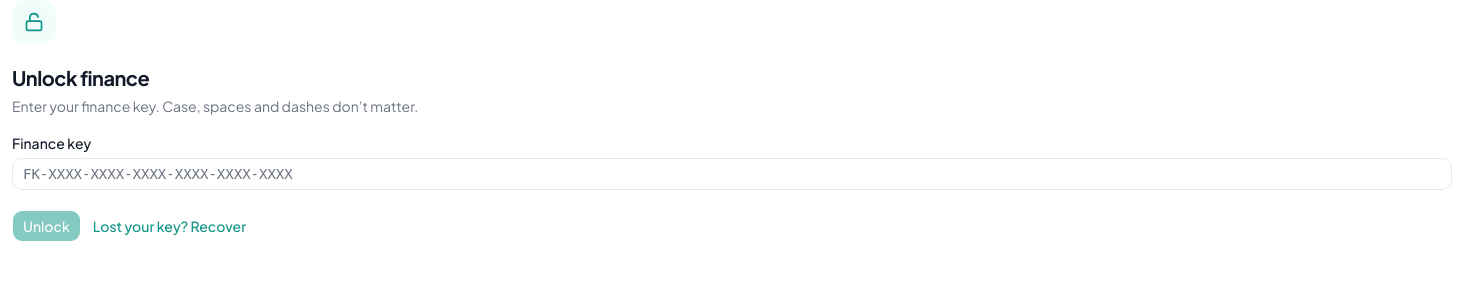
it: finance keys never persist in the browser › unlock: a wrong key shows the message and the field is still cleared
Type "FK-ABCD-EFGH-JKMN-PQRS-TVWX-YZ12" into the field labelled "Finance key" at (732, 174), box top-left (12, 158), bottom-right (1452, 190)
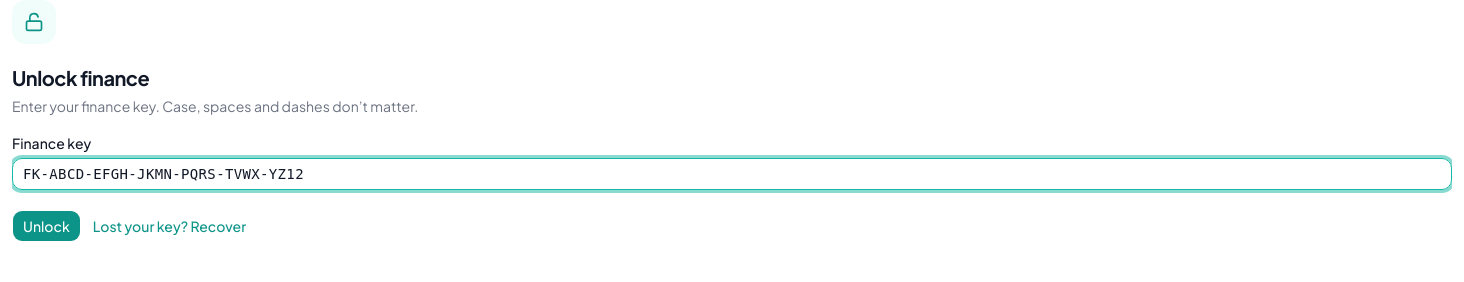
Click the button "Unlock" at (46, 226), box top-left (12, 210), bottom-right (81, 242)
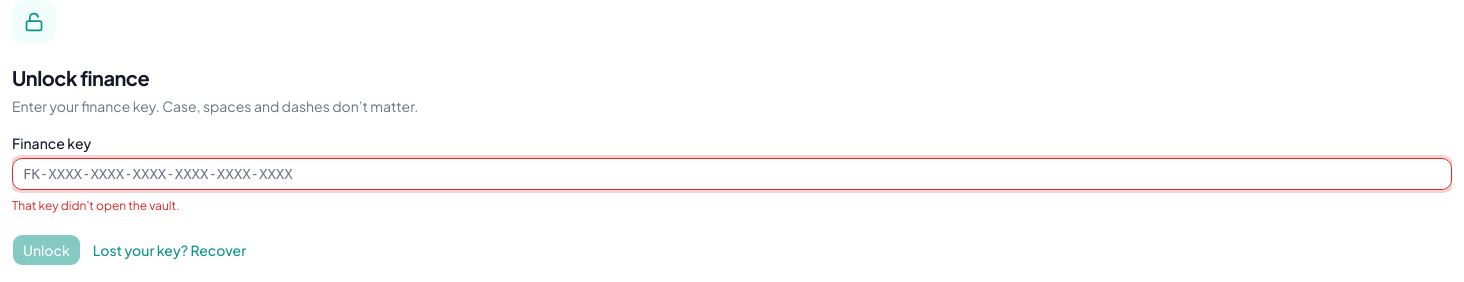
Expected: the text "That key didn't open the vault." is shown, top-left (12, 198), bottom-right (180, 213)
Expected: the field labelled "Finance key" is empty, top-left (12, 158), bottom-right (1452, 190)
